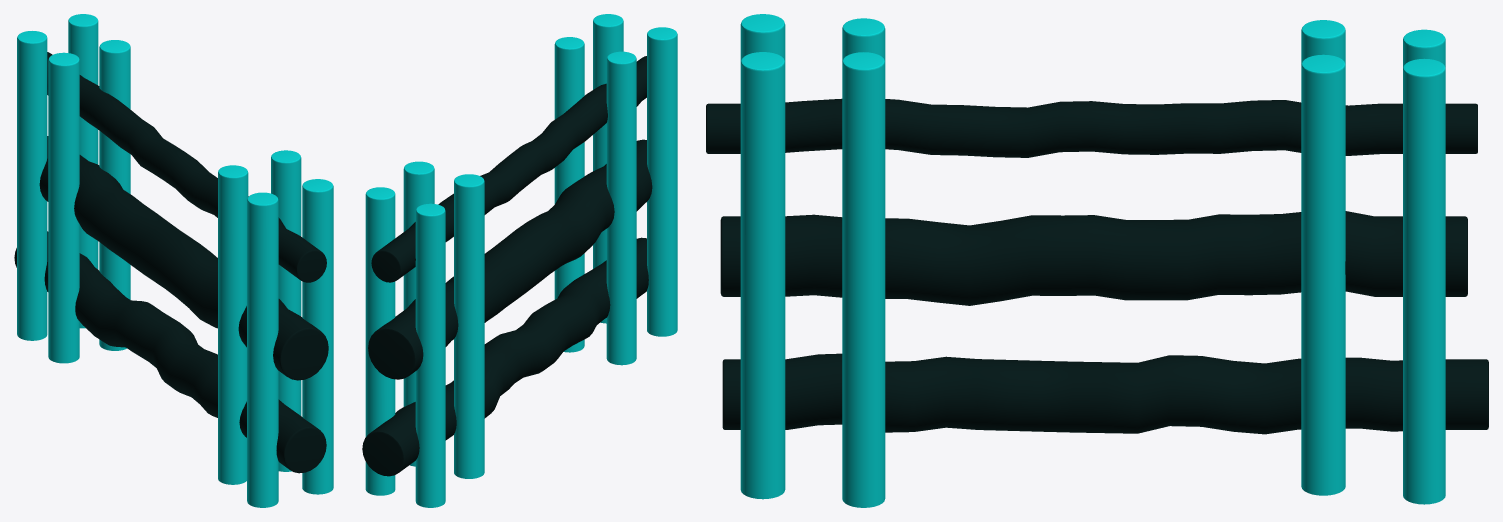
The model's file is old_fence2.fbx.
The picture shows the model from 3 angles, left to right: view 1: azimuth 30°, elevation 25°; view 2: azimuth 150°, elevation 25°; view 3: azimuth 270°, elevation 25°; orthographic projection. The views are drawn at different scales.
Parts seen in each view (by area): view 1: old_fence_2; view 2: old_fence_2; view 3: old_fence_2.
Part boxes in pixels (x1,y1,x2,y2): old_fence_2: (14,14,333,507); old_fence_2: (362,14,677,507); old_fence_2: (706,14,1488,507).
Bounding box in the file's own units: 0.6513 × 2.23 × 3.6.
